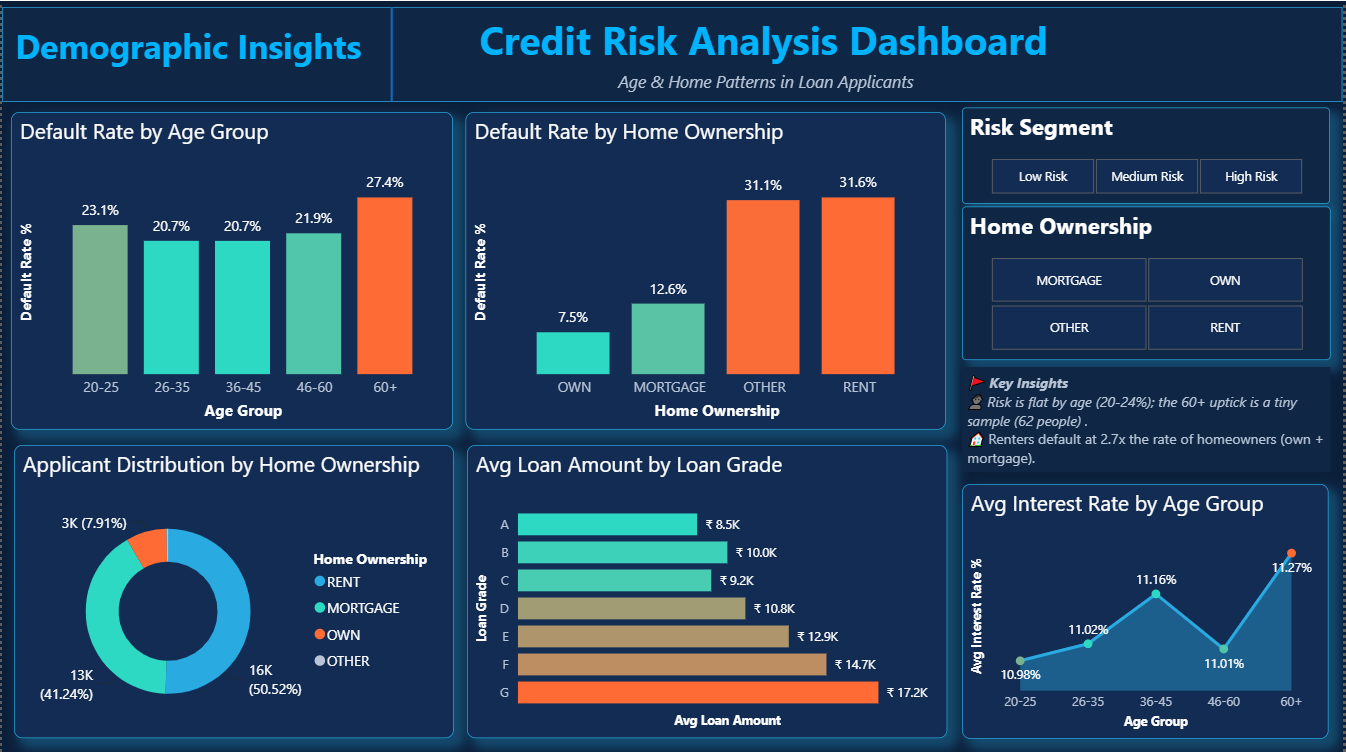

The page's visual inventory and layout, read from the dashboard file:
{"tool":"powerbi","page":{"name":"Demographics","canvas":[1280,720],"ordinal":1},"visuals":[{"type":"textbox","box":[0,6.1,1280,90.7],"z":0},{"type":"textbox","box":[468,59.8,521.9,35],"z":1000},{"type":"textbox","box":[3.3,16.1,350,70],"z":2000},{"type":"shape","box":[353.3,6.1,36.7,90],"z":3000},{"type":"clusteredColumnChart","title":"Default Rate by Age Group","fields":{"Y":["public loans_view.Default Rate %"],"Category":["public loans_view.age_group"]},"box":[8.8,105.5,421.7,303.3],"z":4000},{"type":"clusteredColumnChart","title":"Default Rate by Home Ownership","fields":{"Y":["public loans_view.Default Rate %"],"Category":["public loans_view.person_home_ownership"]},"box":[442.3,105.8,458.3,303.3],"z":5000},{"type":"donutChart","title":"Applicant Distribution by Home Ownership","fields":{"Category":["public loans_view.person_home_ownership"],"Y":["public loans_view.Total Loans"]},"box":[11.7,424.3,420,280],"z":6000},{"type":"clusteredBarChart","title":"Avg Loan Amount by Loan Grade","fields":{"Y":["public loans_view.Avg Loan Amount"],"Category":["public loans_view.loan_grade"]},"box":[443.5,424.7,458.3,280],"z":7000},{"type":"lineChart","title":"Avg Interest Rate by Age Group","fields":{"Y":["public loans_view.Avg Interest Rate %"],"Category":["public loans_view.age_group"]},"box":[916.2,461.3,349.9,243.4],"z":8000},{"type":"slicer","title":"Risk Segment","fields":{"Values":["public loans_view.risk_segment"]},"box":[916.2,101.5,351.5,92.3],"z":9000},{"type":"slicer","title":"Home Ownership","fields":{"Values":["public loans_view.person_home_ownership"]},"box":[916.7,196.7,351.7,146.7],"z":10000},{"type":"textbox","box":[916.7,350,351.7,100],"z":11000}]}

Visuals, with their boxes in screenshot pixels (x1, y1, x2, y2), scaled from the page's 1280x720 canvas onto the 1346x752 screenshot:
textbox: (0,6,1345,101)
textbox: (492,62,1041,99)
textbox: (3,17,372,90)
shape: (372,6,410,100)
"Default Rate by Age Group" clusteredColumnChart: (9,110,453,427)
"Default Rate by Home Ownership" clusteredColumnChart: (465,111,947,427)
"Applicant Distribution by Home Ownership" donutChart: (12,443,454,736)
"Avg Loan Amount by Loan Grade" clusteredBarChart: (466,444,948,736)
"Avg Interest Rate by Age Group" lineChart: (963,482,1331,736)
"Risk Segment" slicer: (963,106,1333,202)
"Home Ownership" slicer: (964,205,1334,359)
textbox: (964,366,1334,470)
